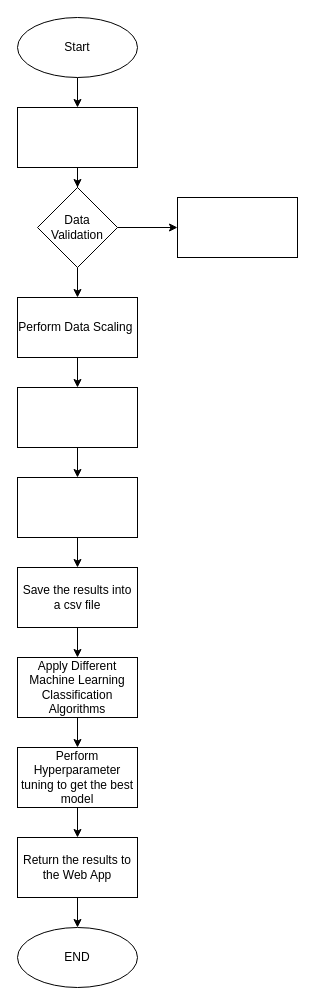
This 315x1005 diagram has some shape labels left out. Each missing label, with the centre of its shape:
Get the Prediction from the model: point 77,507
Pass the scaled data to ML model: point 77,417
Raise Exception: point 237,227
Take Data from user: point 77,137
